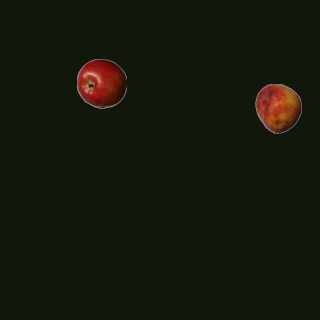Apple Braeburn: (76, 58, 126, 108)
Peach: (253, 83, 303, 133)
